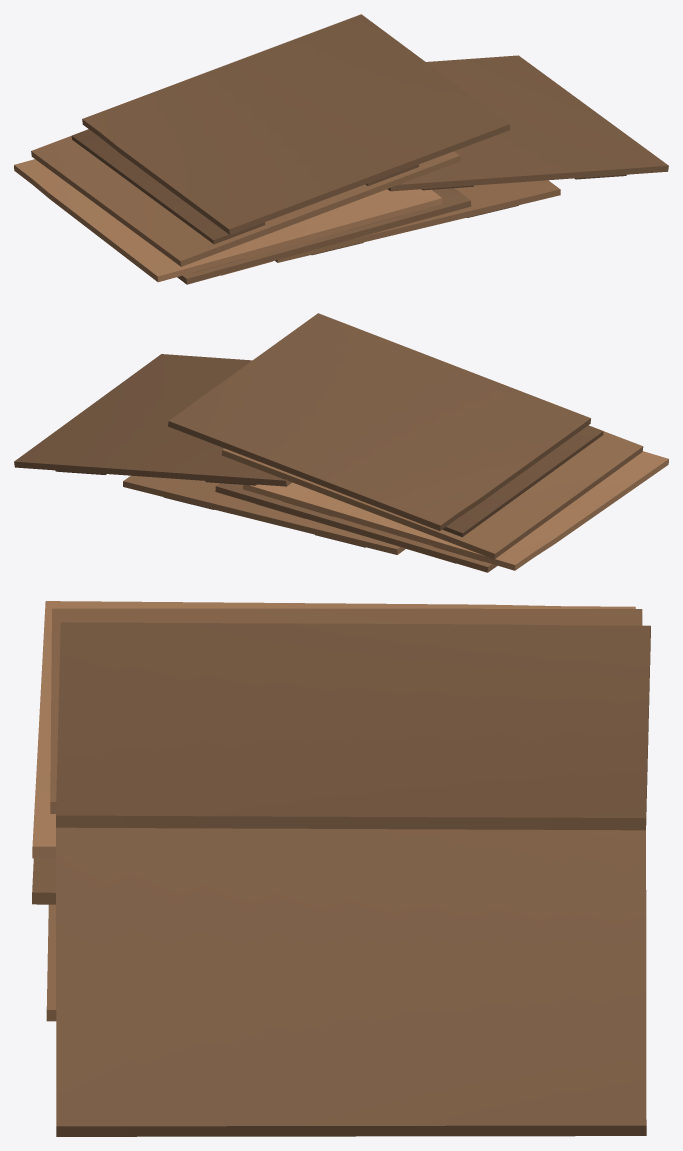
The model's file is Multiple Med Messy Mid Crate Lids.fbx.
The picture shows the model from 3 angles, top to bottom: view 1: azimuth 30°, elevation 25°; view 2: azimuth 150°, elevation 25°; view 3: azimuth 270°, elevation 25°; orthographic projection. The views are drawn at different scales.
Visible parts, largest first — view 1: Med Multiple Messy Mid Crate Lids; view 2: Med Multiple Messy Mid Crate Lids; view 3: Med Multiple Messy Mid Crate Lids.
Boxes of the visible parts, <box> form: Med Multiple Messy Mid Crate Lids: <box>14,14,668,284</box>; Med Multiple Messy Mid Crate Lids: <box>14,313,668,572</box>; Med Multiple Messy Mid Crate Lids: <box>32,601,650,1136</box>.
Bounding box in the file's own units: 60.77 × 201 × 379.
Materials: 1 (1 with a texture image).
